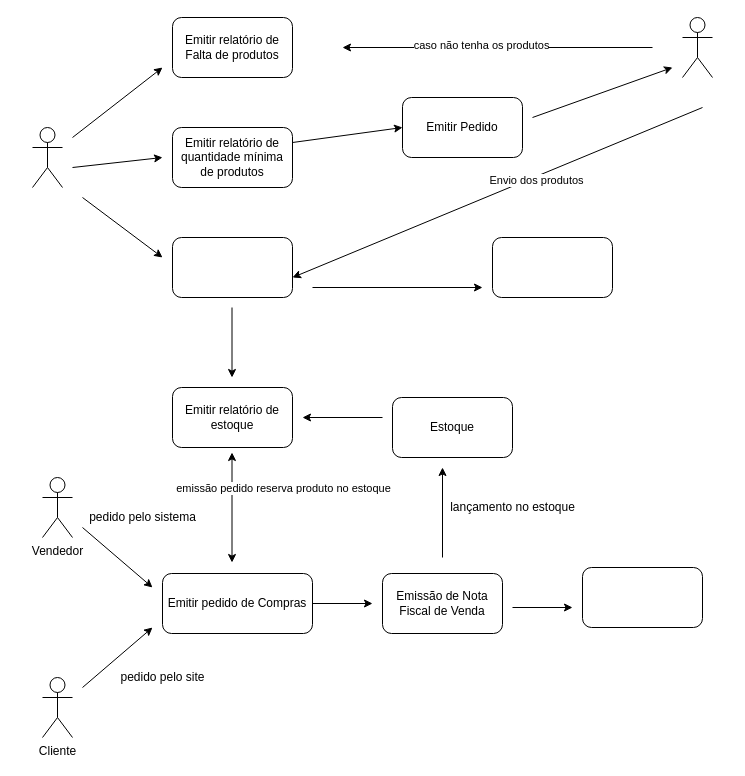
The diagram is 745 pixels wide and 776 high, and some of its shapes have lost their labels. The shapes that lost their labels are listed below. From the top down, each one's box as (x1, y1, x2, y2) in pixels, then its label:
(682, 16, 712, 78): Fornecedor
(32, 126, 62, 188): Comprador
(172, 236, 292, 298): Lançamento da Nota Fiscal de Entrada
(492, 236, 612, 298): Lançamento no Contas a Pagar
(582, 566, 702, 628): Lançamento no Contas a Receber
